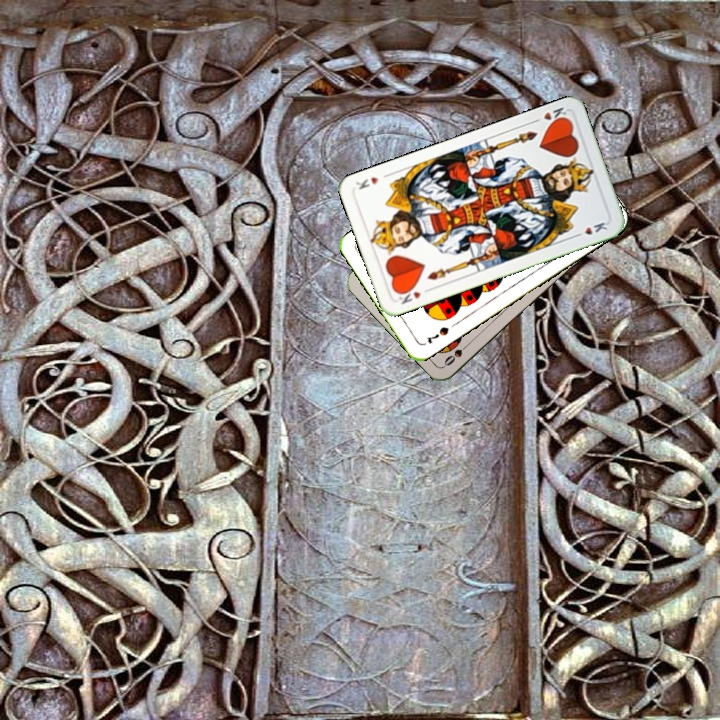HK: (529, 103, 570, 128), (393, 283, 433, 307)
S7: (423, 322, 451, 346)
SO: (440, 337, 473, 369)
